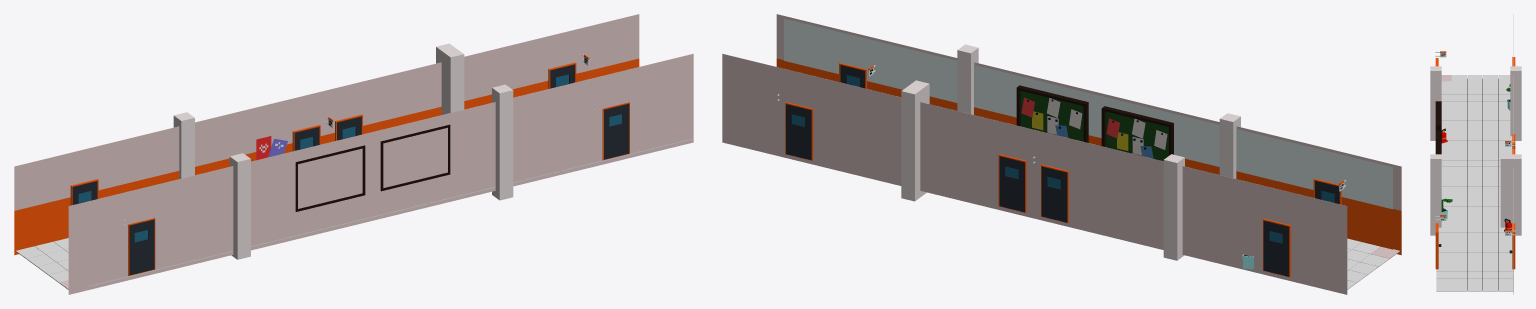
The model's file is 스테이지1_2.fbx.
3 views of the same model, side by side, from view 1: azimuth 30°, elevation 25°; view 2: azimuth 150°, elevation 25°; view 3: azimuth 270°, elevation 25° (orthographic). The views are drawn at different scales.
Parts seen in each view (by area): view 1: Cube_2_10, Cube_4_2, Cube_21_2, 기둥1, Cube_1_10, Boolean_1_6, Boolean_1_5, Cube_11_2, Boolean_6, Boolean_5; view 2: Cube_4_2, 왼쪽벽, Cube_2_10, Cube_12_2, Cube_11_2, Cube_2_12, Cube_2_11, Boolean_1_2, Cube_21_2, Boolean_1, Boolean_1_4, Boolean_1_3 (+3 smaller); view 3: Cube_12_2, Cube_21_2, Cube_11_2, Cube_1_10, 기둥1, Plane, Cube_4_2, Boolean_5, Boolean_8, Boolean_3, Boolean_6, Cube_69 (+143 smaller).
Part boxes in pixels (box(x1,y1,x2,y2)): Cube_2_10: box(68, 53, 693, 294); Cube_4_2: box(14, 14, 639, 255); Cube_21_2: box(492, 84, 513, 200); 기둥1: box(229, 153, 250, 259); Cube_1_10: box(443, 49, 464, 114); Boolean_1_6: box(604, 103, 629, 159); Boolean_1_5: box(129, 219, 154, 275); Cube_11_2: box(173, 112, 194, 178); Boolean_6: box(380, 124, 450, 191); Boolean_5: box(295, 145, 365, 211); Cube_4_2: box(722, 53, 1347, 294); 왼쪽벽: box(784, 18, 1392, 249); Cube_2_10: box(776, 14, 1401, 255); Cube_12_2: box(901, 86, 921, 201); Cube_11_2: box(1163, 154, 1184, 260); Cube_2_12: box(1020, 91, 1083, 141); Cube_2_11: box(1105, 111, 1168, 161); Boolean_1_2: box(1041, 166, 1067, 222); Cube_21_2: box(957, 44, 978, 114); Boolean_1: box(1263, 221, 1288, 276); Boolean_1_4: box(999, 156, 1024, 212); Boolean_1_3: box(786, 104, 811, 160); Cube_12_2: box(1510, 154, 1521, 235); Cube_21_2: box(1430, 154, 1441, 235); Cube_11_2: box(1510, 66, 1521, 140); Cube_1_10: box(1500, 154, 1511, 227); 기둥1: box(1430, 66, 1441, 140); Plane: box(1467, 79, 1498, 290); Cube_4_2: box(1513, 14, 1513, 294); Boolean_5: box(1435, 101, 1441, 130); Boolean_8: box(1435, 223, 1438, 269); Boolean_3: box(1512, 223, 1515, 269); Boolean_6: box(1435, 130, 1441, 154); Cube_69: box(1467, 94, 1482, 101).
Bounding box in the file's own units: 8073 × 1322 × 1428.
